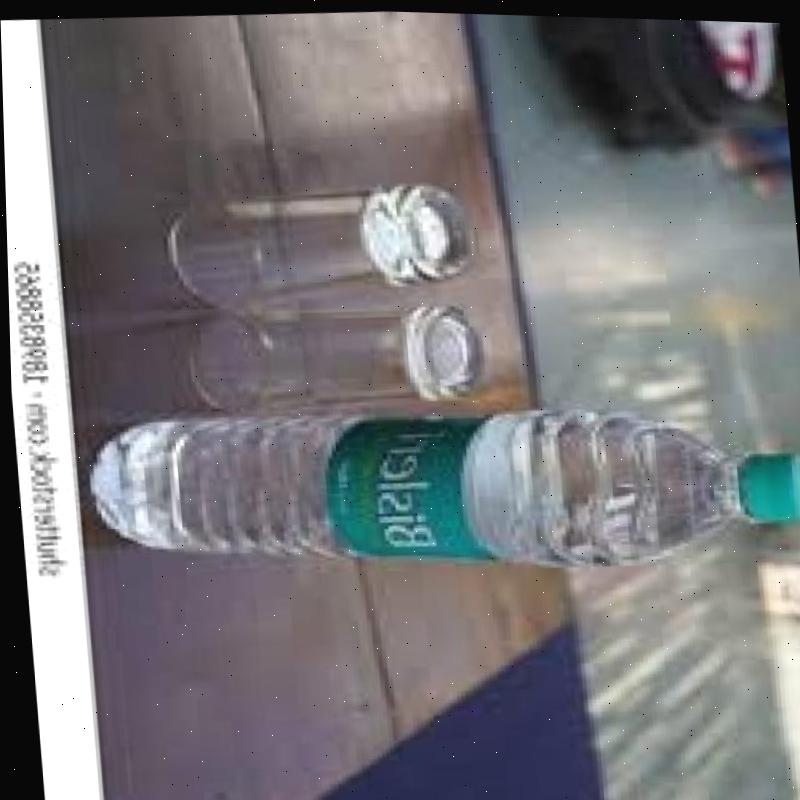botella: (75, 379, 800, 597)
